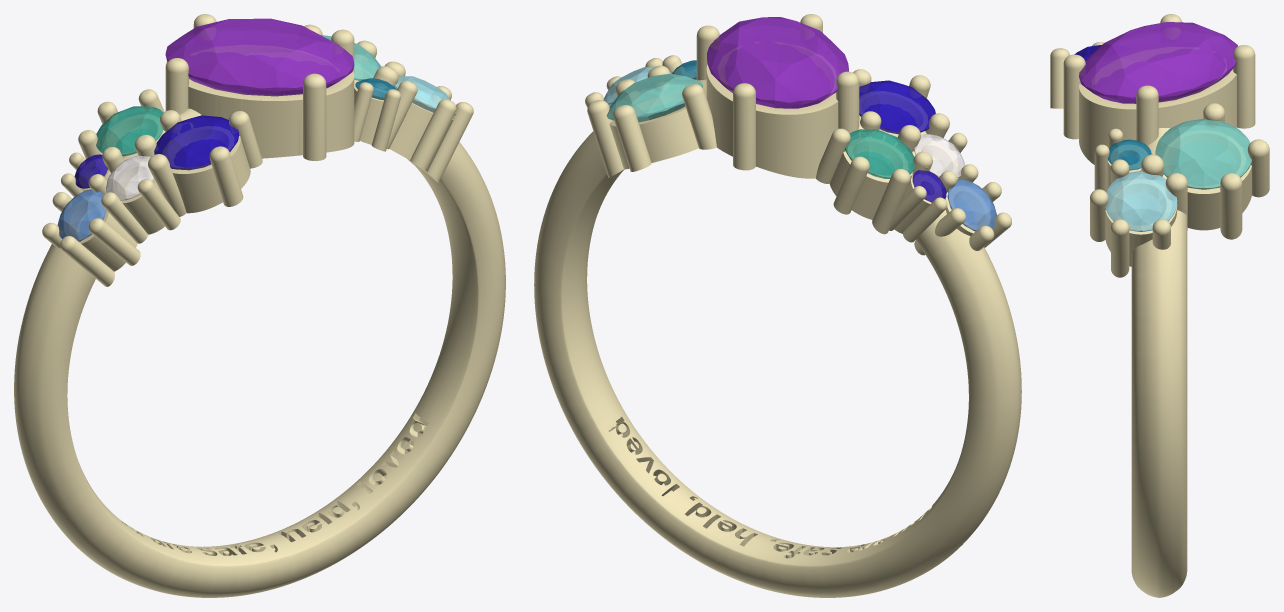
Rendered from Anillo_colores.glb.
3 renders of one model, left to right at view 1: azimuth 30°, elevation 25°; view 2: azimuth 150°, elevation 25°; view 3: azimuth 270°, elevation 25°, orthographic. The views are drawn at different scales.
Visible parts, largest first — view 1: Object_1_/Yellow Gold-8508952d-1574-41b6-8512-d7f9eb00d480_0, Diamond_Oval, Diamond_Round_8_/Alexandrite-181c75d8-8a9c-4731-8595-700a0ae, Diamond_Round_3_/Alexandrite-181c75d8-8a9c-4731-8595-700a0ae, Diamond_Round_5_/Alexandrite-181c75d8-8a9c-4731-8595-700a0ae, Diamond_Round_4_/Alexandrite-181c75d8-8a9c-4731-8595-700a0ae, Diamond_Round_2_/Alexandrite-181c75d8-8a9c-4731-8595-700a0ae, Diamond_Round_/Alexandrite-181c75d8-8a9c-4731-8595-700a0ae47, Diamond_Round_6_/Alexandrite-181c75d8-8a9c-4731-8595-700a0ae; view 2: Object_1_/Yellow Gold-8508952d-1574-41b6-8512-d7f9eb00d480_0, Diamond_Oval, Diamond_Round_8_/Alexandrite-181c75d8-8a9c-4731-8595-700a0ae, Diamond_Round_/Alexandrite-181c75d8-8a9c-4731-8595-700a0ae47, Diamond_Round_3_/Alexandrite-181c75d8-8a9c-4731-8595-700a0ae, Diamond_Round_5_/Alexandrite-181c75d8-8a9c-4731-8595-700a0ae, Diamond_Round_4_/Alexandrite-181c75d8-8a9c-4731-8595-700a0ae, Diamond_Round_6_/Alexandrite-181c75d8-8a9c-4731-8595-700a0ae; view 3: Object_1_/Yellow Gold-8508952d-1574-41b6-8512-d7f9eb00d480_0, Diamond_Oval, Diamond_Round_/Alexandrite-181c75d8-8a9c-4731-8595-700a0ae47, Diamond_Round_2_/Alexandrite-181c75d8-8a9c-4731-8595-700a0ae, Diamond_Round_7_/Alexandrite-181c75d8-8a9c-4731-8595-700a0ae.
Boxes of the visible parts, x1,y1,x2,y2 form: Object_1_/Yellow Gold-8508952d-1574-41b6-8512-d7f9eb00d480_0: [14, 14, 505, 597]; Diamond_Oval: [165, 18, 354, 96]; Diamond_Round_8_/Alexandrite-181c75d8-8a9c-4731-8595-700a0ae: [154, 115, 238, 170]; Diamond_Round_3_/Alexandrite-181c75d8-8a9c-4731-8595-700a0ae: [96, 106, 163, 156]; Diamond_Round_5_/Alexandrite-181c75d8-8a9c-4731-8595-700a0ae: [57, 189, 106, 241]; Diamond_Round_4_/Alexandrite-181c75d8-8a9c-4731-8595-700a0ae: [106, 155, 154, 200]; Diamond_Round_2_/Alexandrite-181c75d8-8a9c-4731-8595-700a0ae: [394, 76, 456, 115]; Diamond_Round_/Alexandrite-181c75d8-8a9c-4731-8595-700a0ae47: [321, 35, 381, 80]; Diamond_Round_6_/Alexandrite-181c75d8-8a9c-4731-8595-700a0ae: [74, 154, 107, 188]; Object_1_/Yellow Gold-8508952d-1574-41b6-8512-d7f9eb00d480_0: [534, 14, 1021, 597]; Diamond_Oval: [707, 17, 848, 108]; Diamond_Round_8_/Alexandrite-181c75d8-8a9c-4731-8595-700a0ae: [859, 80, 935, 134]; Diamond_Round_/Alexandrite-181c75d8-8a9c-4731-8595-700a0ae47: [606, 73, 702, 122]; Diamond_Round_3_/Alexandrite-181c75d8-8a9c-4731-8595-700a0ae: [845, 129, 915, 178]; Diamond_Round_5_/Alexandrite-181c75d8-8a9c-4731-8595-700a0ae: [947, 179, 996, 231]; Diamond_Round_4_/Alexandrite-181c75d8-8a9c-4731-8595-700a0ae: [914, 134, 964, 177]; Diamond_Round_6_/Alexandrite-181c75d8-8a9c-4731-8595-700a0ae: [912, 170, 946, 202]; Object_1_/Yellow Gold-8508952d-1574-41b6-8512-d7f9eb00d480_0: [1050, 14, 1269, 597]; Diamond_Oval: [1079, 22, 1237, 103]; Diamond_Round_/Alexandrite-181c75d8-8a9c-4731-8595-700a0ae47: [1155, 119, 1251, 189]; Diamond_Round_2_/Alexandrite-181c75d8-8a9c-4731-8595-700a0ae: [1105, 171, 1177, 231]; Diamond_Round_7_/Alexandrite-181c75d8-8a9c-4731-8595-700a0ae: [1107, 139, 1151, 170].
Bounding box in the file's own units: 0.0193 × 0.021 × 0.00788.
